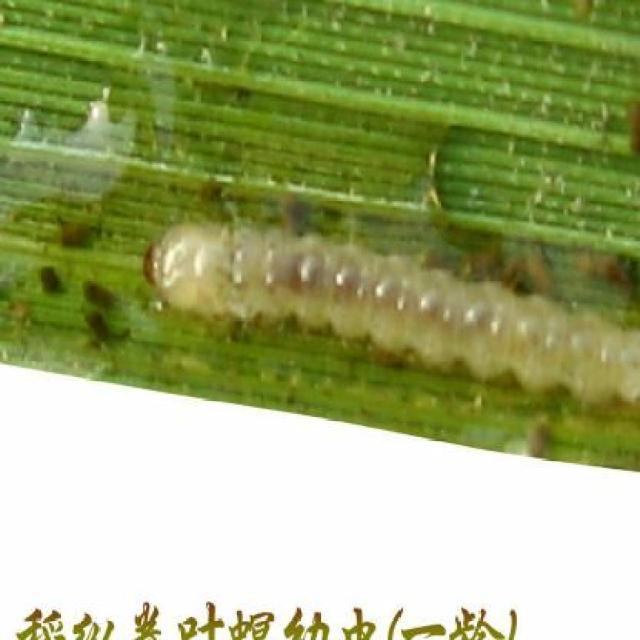leaf-folder: (137, 175, 640, 436)
